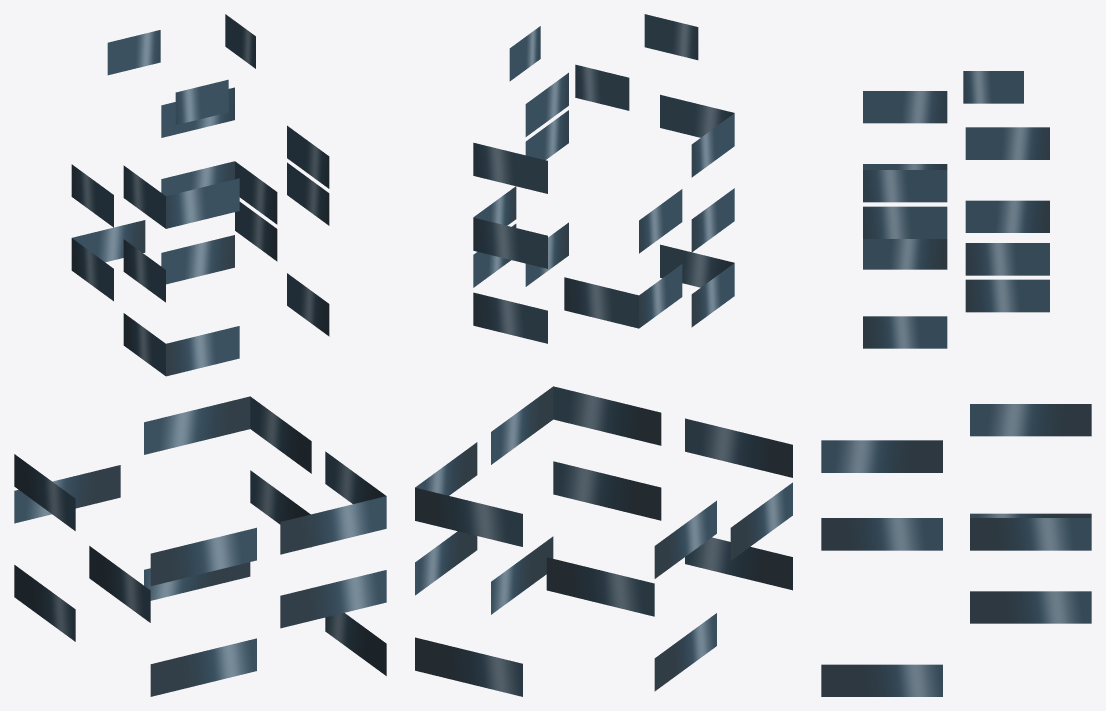
File: apartmenttower3windows.fbx
3 views of the same model, side by side, from view 1: azimuth 30°, elevation 25°; view 2: azimuth 150°, elevation 25°; view 3: azimuth 270°, elevation 25° (orthographic). The views are drawn at different scales.
Parts seen in each view (by area): view 1: apartmenttower3windows; view 2: apartmenttower3windows; view 3: apartmenttower3windows.
Part boxes in pixels (x1,y1,x2,y2): apartmenttower3windows: (14, 14, 386, 696); apartmenttower3windows: (415, 14, 792, 696); apartmenttower3windows: (821, 71, 1091, 696).
Bounding box in the file's own units: 35.29 × 86.04 × 35.29.
